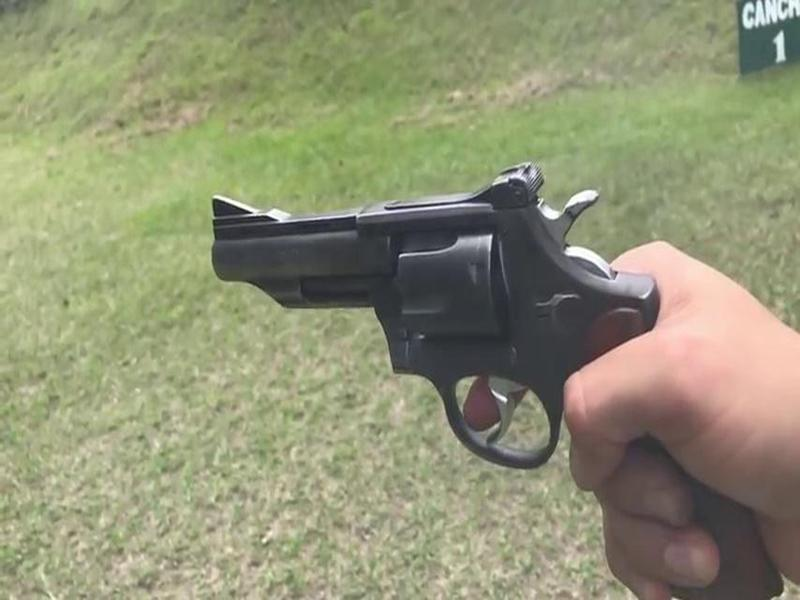Revolver: (182, 144, 671, 516)
